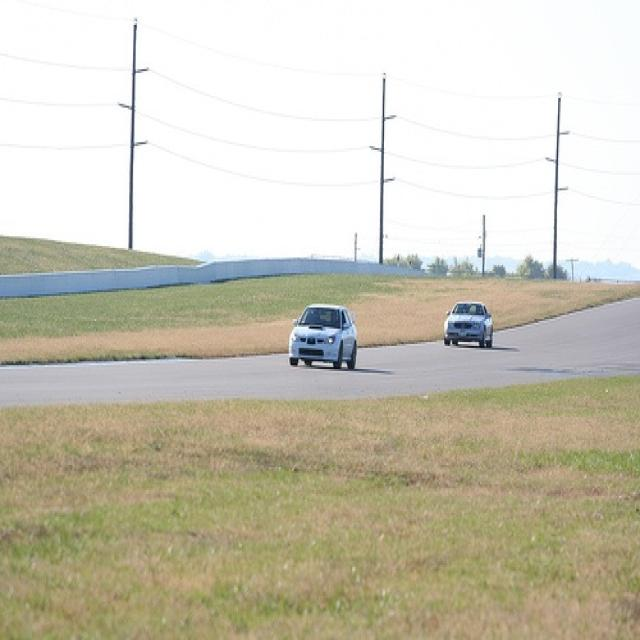car: (288, 300, 358, 377), (443, 298, 493, 354)
